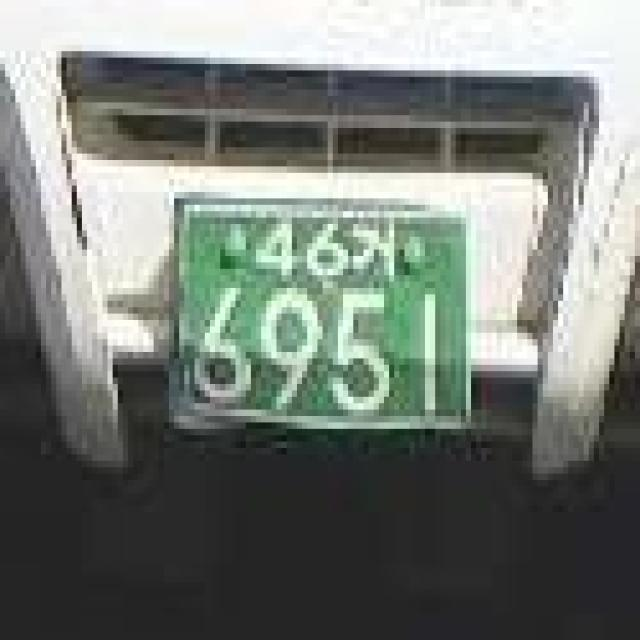illegal_plate: (160, 179, 480, 460)
